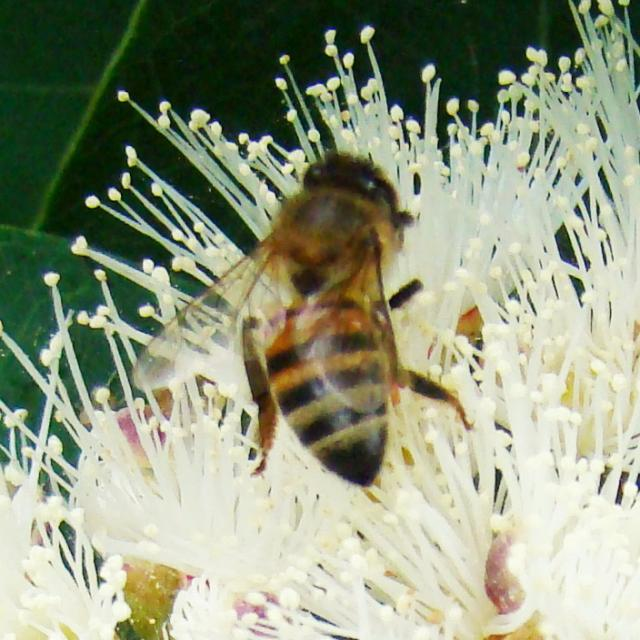Apis-mellifera-scutellata: (144, 116, 483, 519)
